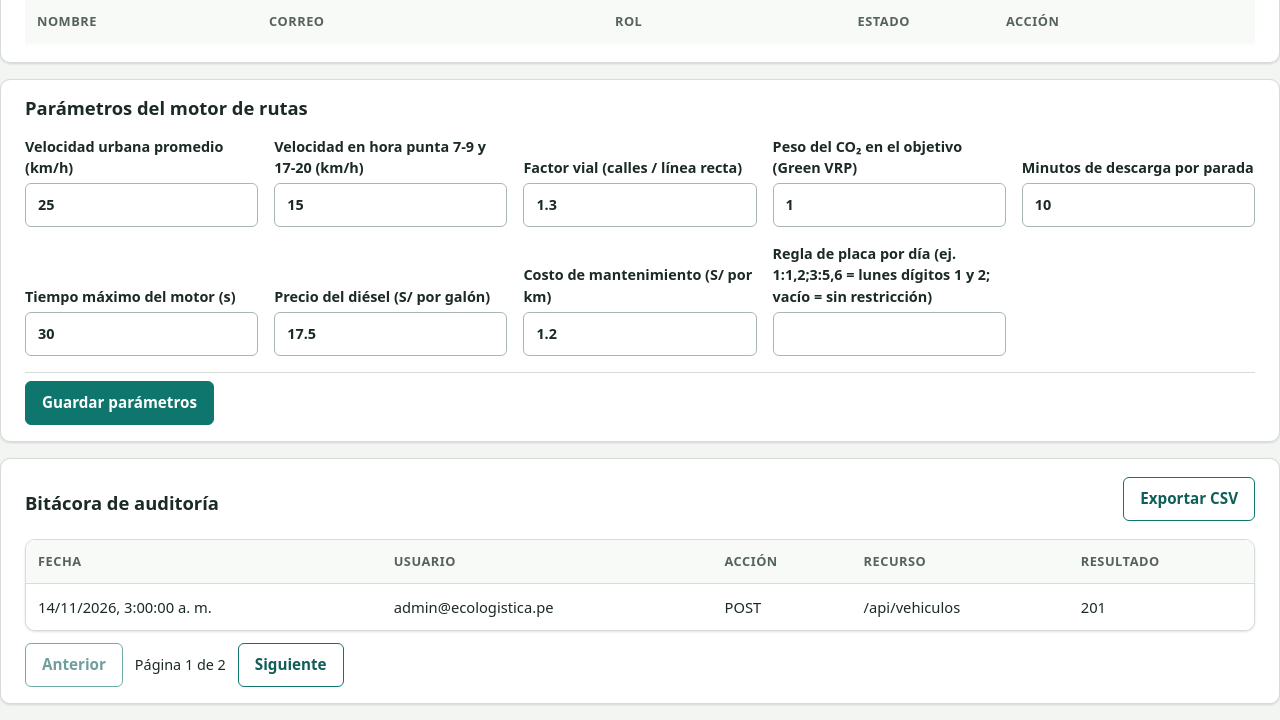
Test: Administración (RF-012) › pagina la bitácora de auditoría
(page scrolled)
Expected: the text "Página 1 de 2" is shown, [135, 654, 226, 676]
Expected: the text "/api/vehiculos" is shown, [852, 583, 1069, 630]
Click the button "Siguiente": (291, 665) [238, 643, 344, 687]
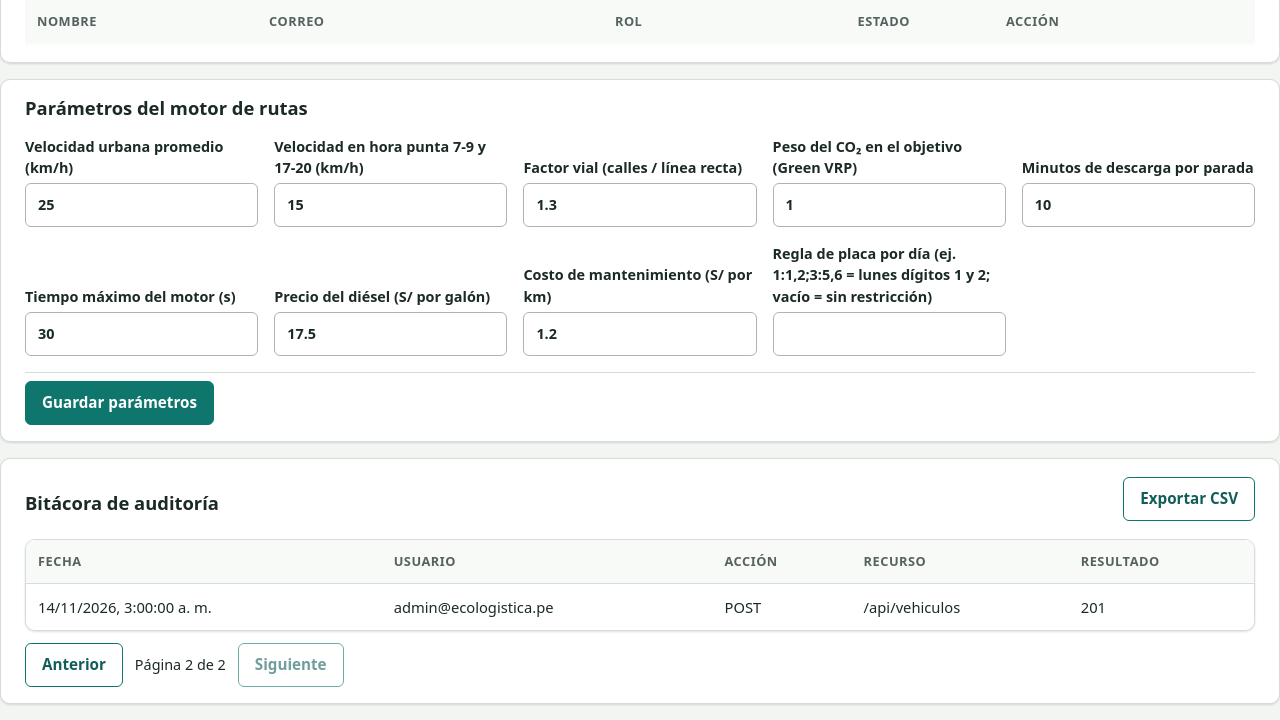
Expected: the text "Página 2 de 2" is shown, [135, 654, 226, 676]
Click the button "Anterior": (74, 665) [25, 643, 123, 687]
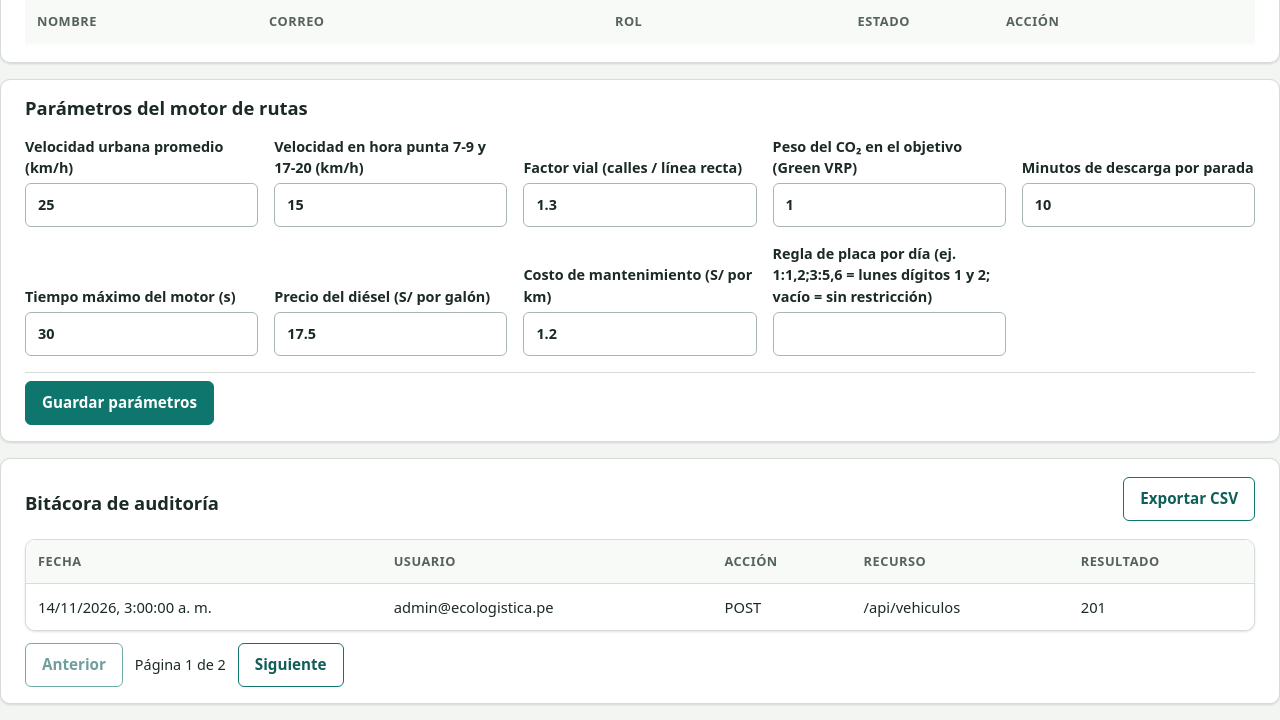
Expected: the text "Página 1 de 2" is shown, [135, 654, 226, 676]
